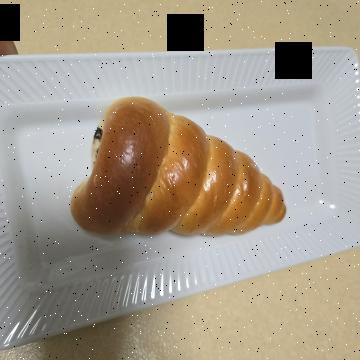cream horn: (70, 65, 252, 312)
